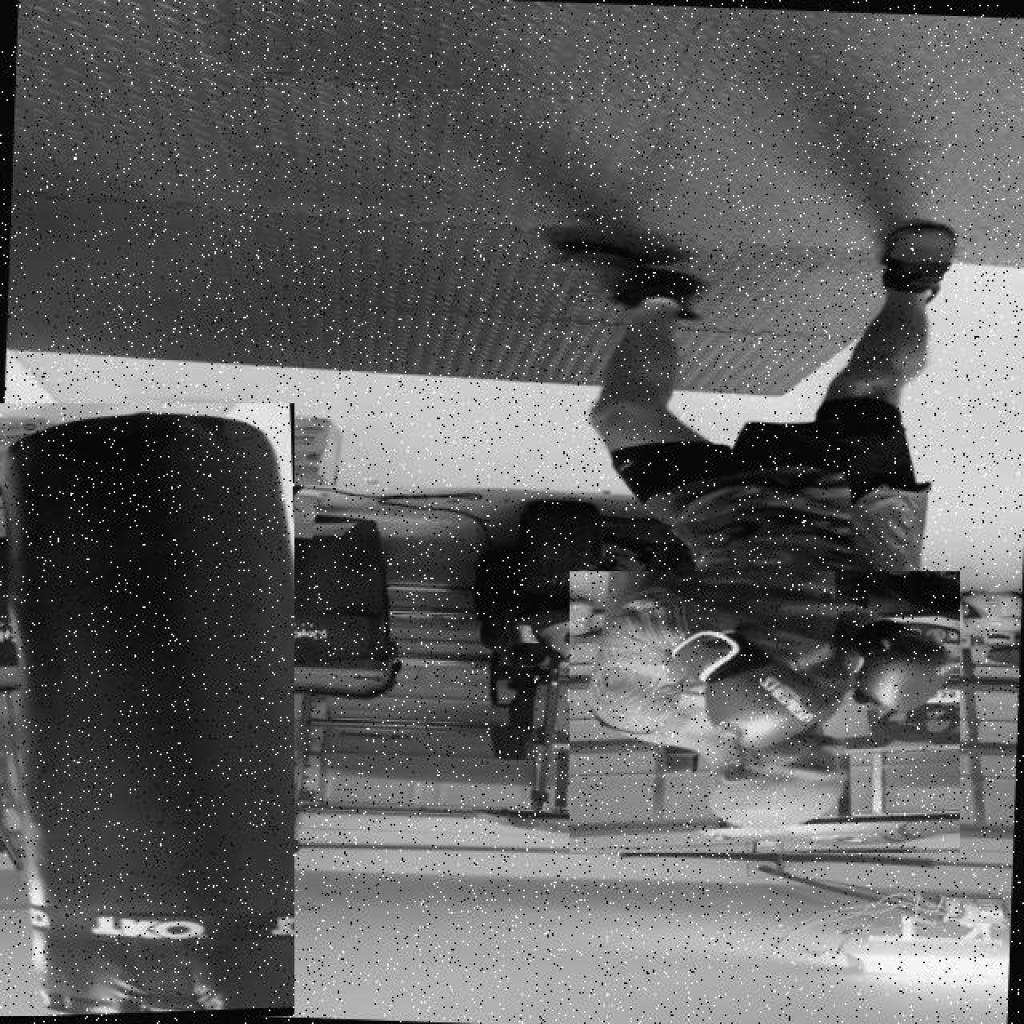bag: (0, 403, 294, 1016)
no punch: (570, 571, 960, 853)
